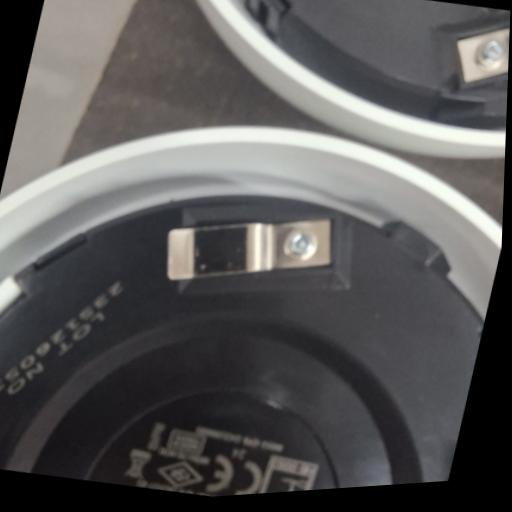yaysiz: (153, 188, 345, 314)
